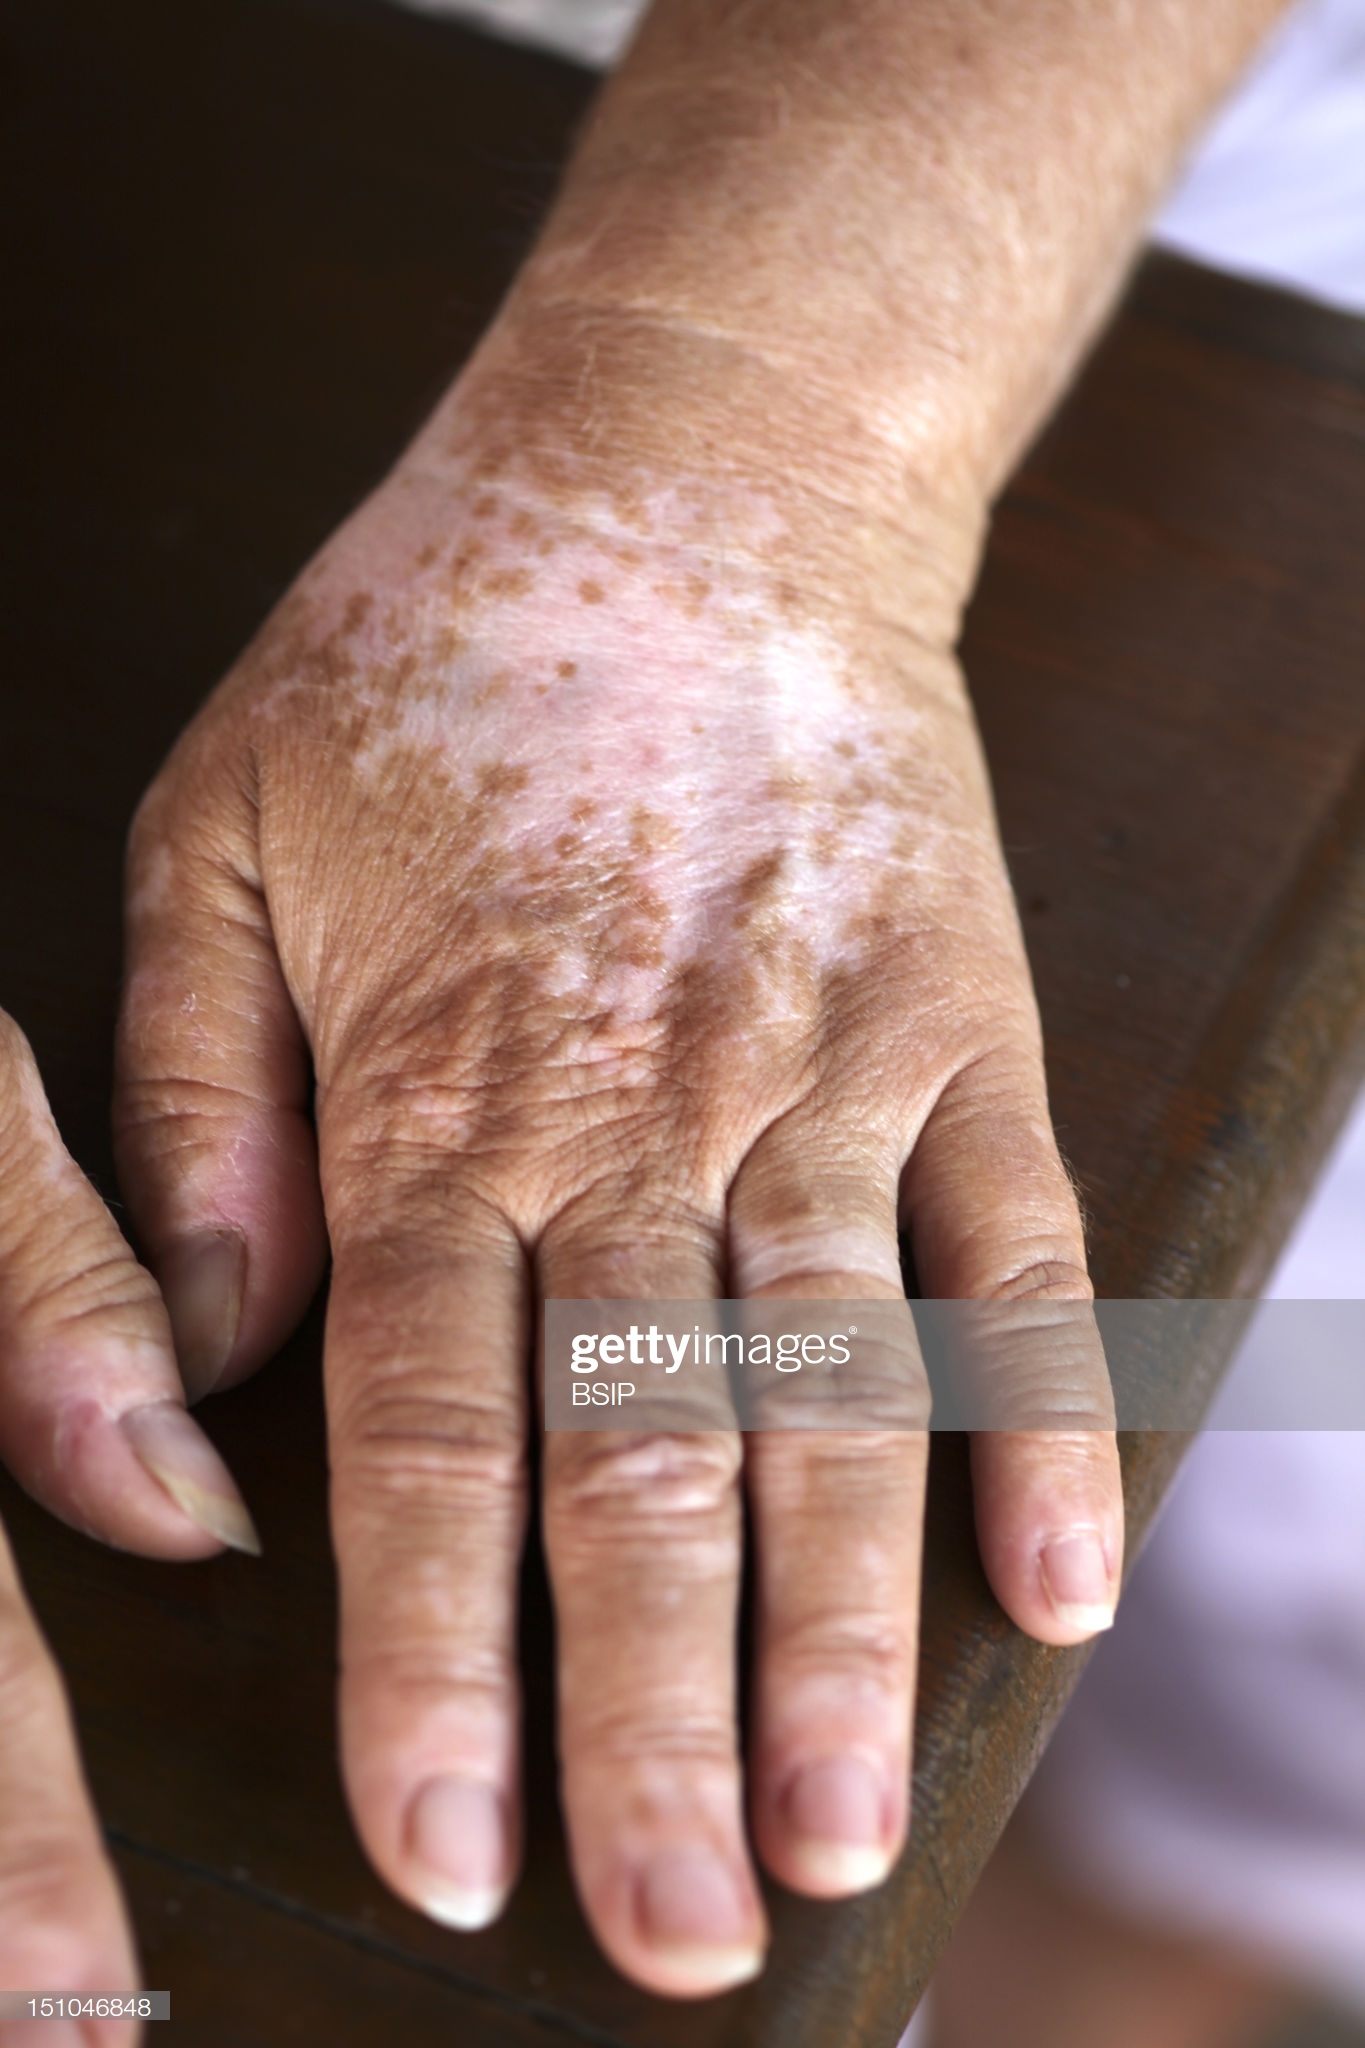vitiligo: (302, 495, 981, 1230)
